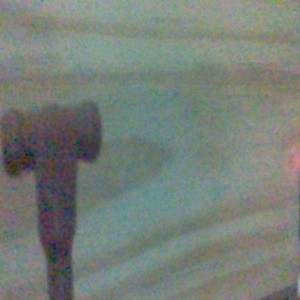palu: (1, 99, 102, 300)
